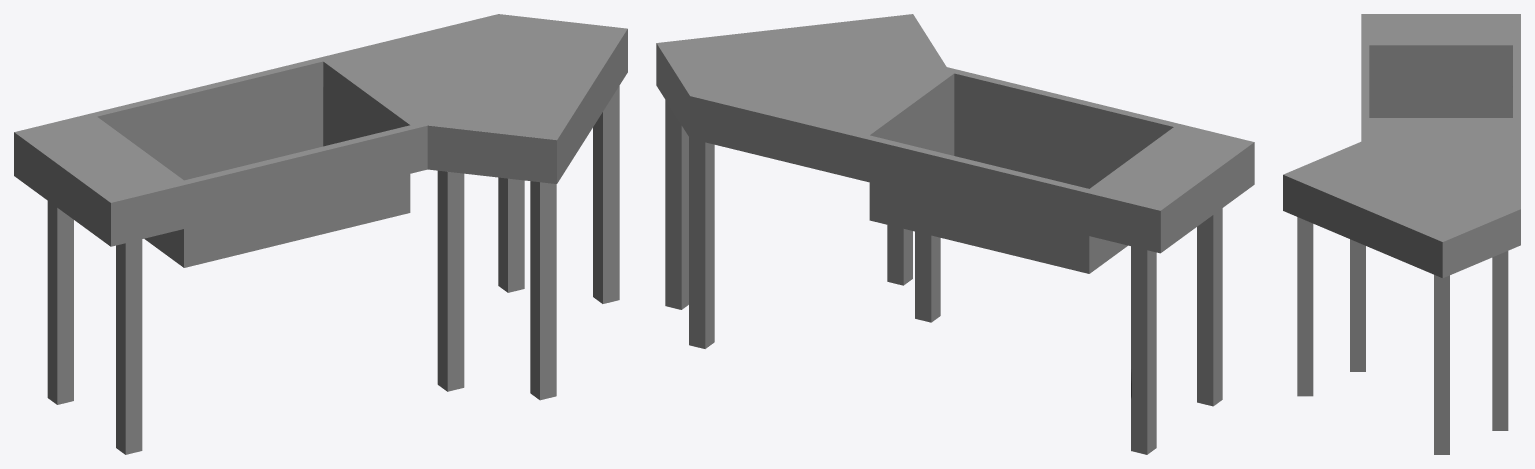
Rendered from counter_2.2.fbx.
3 renders of one model, left to right at view 1: azimuth 30°, elevation 25°; view 2: azimuth 150°, elevation 25°; view 3: azimuth 270°, elevation 25°, orthographic. The views are drawn at different scales.
Visible parts, largest first — view 1: Cube; view 2: Cube; view 3: Cube.
Boxes of the visible parts, box(x1,y1,x2,y2) form: Cube: box(14, 14, 627, 454); Cube: box(656, 14, 1254, 454); Cube: box(1283, 14, 1520, 454).
Bounding box in the file's own units: 676 × 301 × 298.
